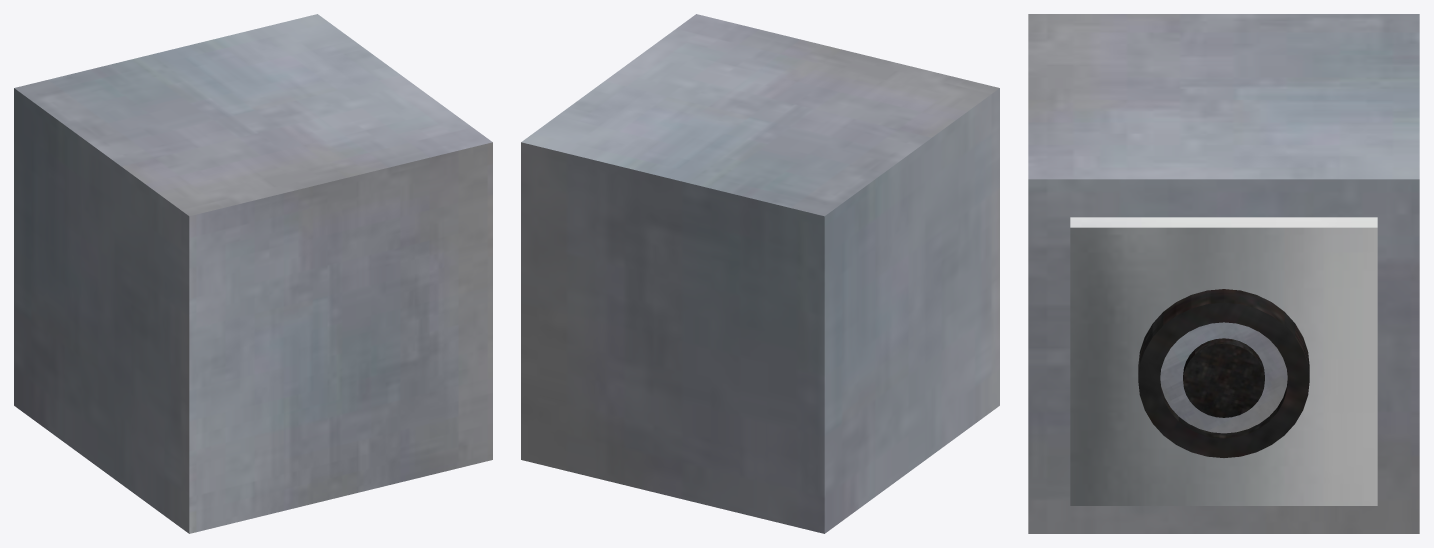
Rendered from safe_closed.fbx.
The picture shows the model from 3 angles, left to right: view 1: azimuth 30°, elevation 25°; view 2: azimuth 150°, elevation 25°; view 3: azimuth 270°, elevation 25°; orthographic projection. The views are drawn at different scales.
Parts seen in each view (by area): view 1: safe_closed; view 2: safe_closed; view 3: safe_closed.
Boxes of the visible parts, <box> form: safe_closed: <box>14,14,492,533</box>; safe_closed: <box>521,14,999,533</box>; safe_closed: <box>1028,14,1419,533</box>.
Bounding box in the file's own units: 229 × 200 × 200.
